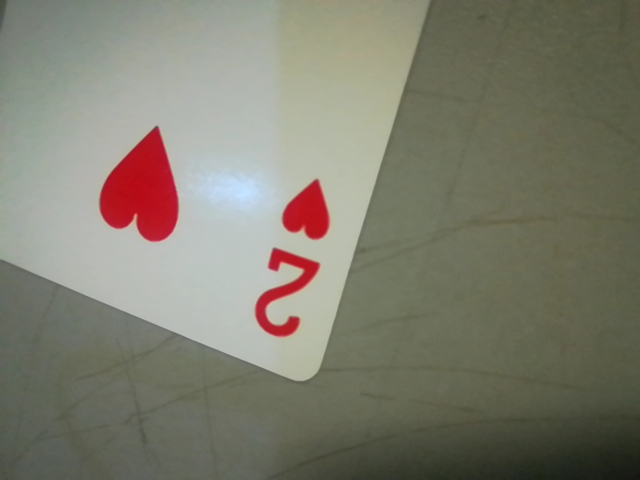hx 2: (240, 161, 338, 356)
